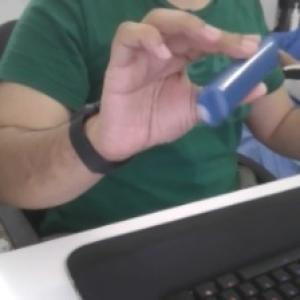Diamond-E-Ciggirate: (192, 32, 284, 131)
